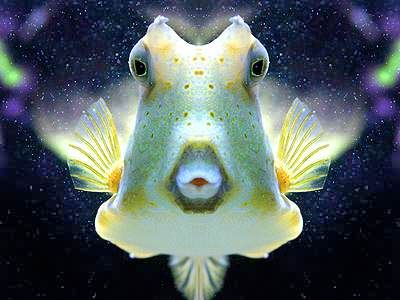Fish: (68, 14, 332, 259)
